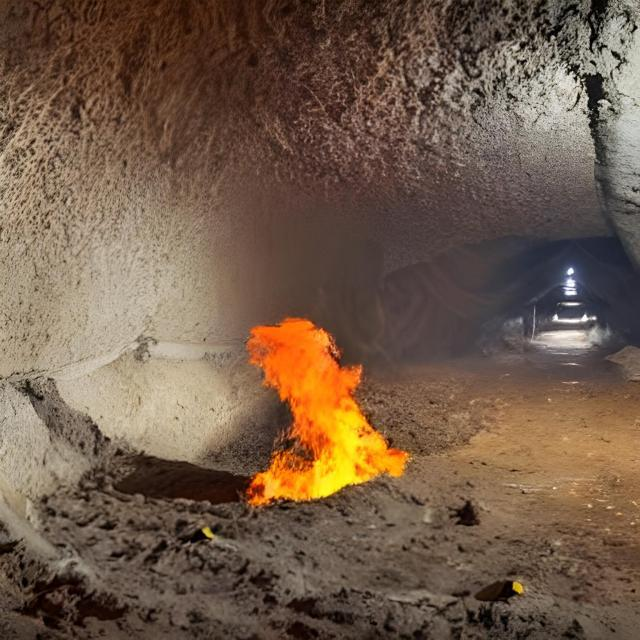Fire: (242, 318, 410, 512)
